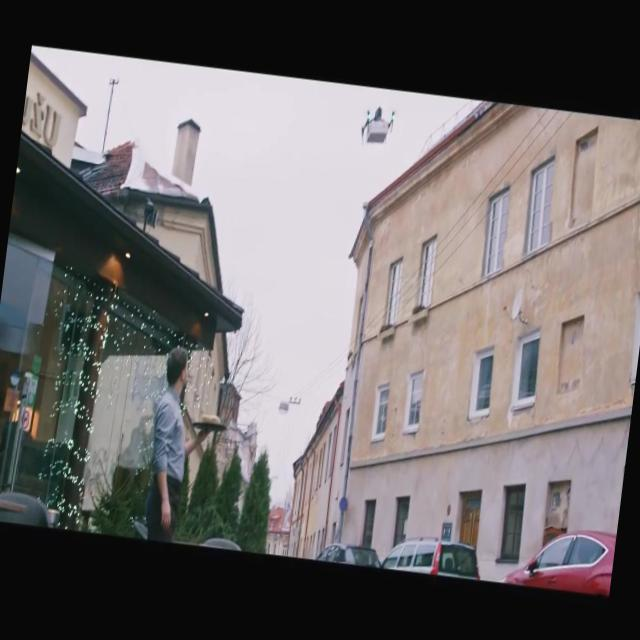drone: (356, 99, 398, 151)
